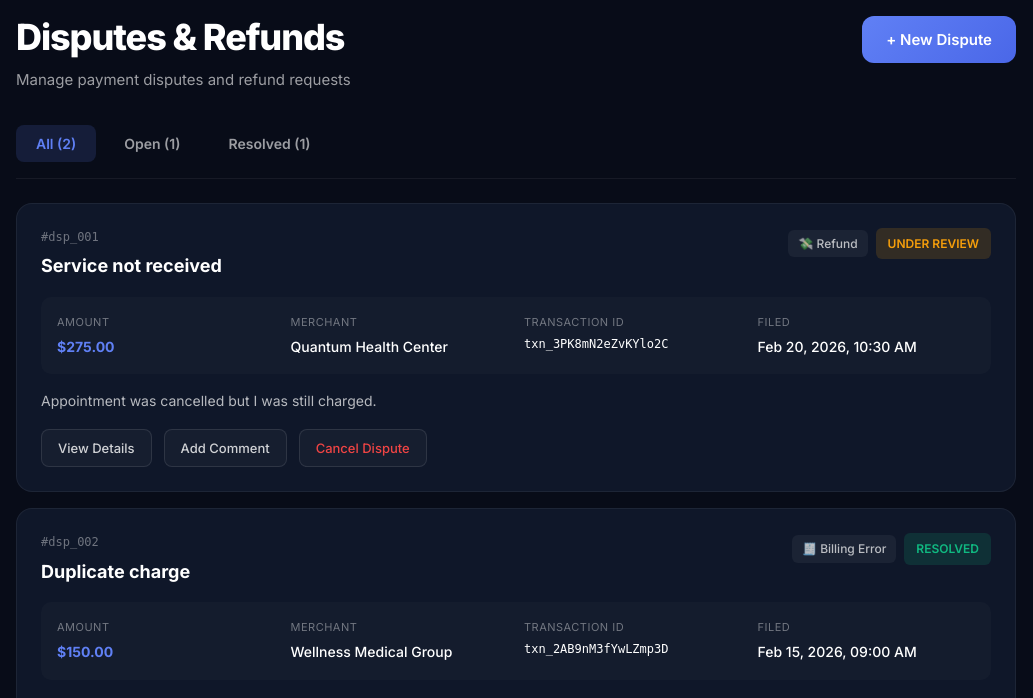
it: Disputes › tabs › filters to open disputes
The image size is (1033, 698).
Click the button "Open (1)" at point(152, 143), box [104, 125, 200, 162]
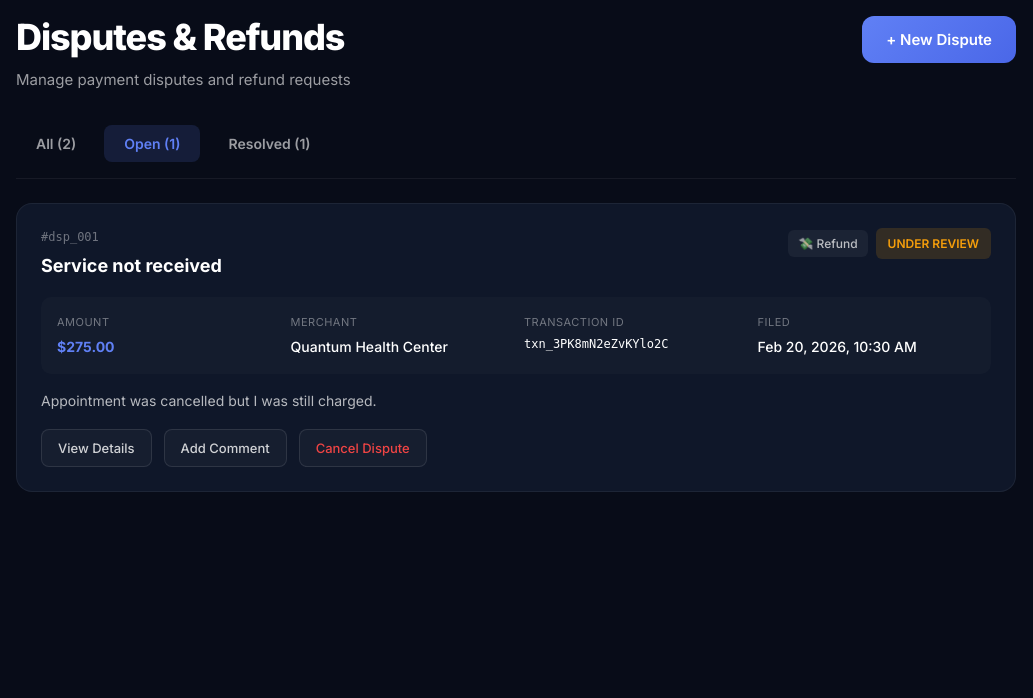
Expected: the text "Service not received" is shown, [41, 252, 222, 281]
Expected: the text "Duplicate charge" is gone
